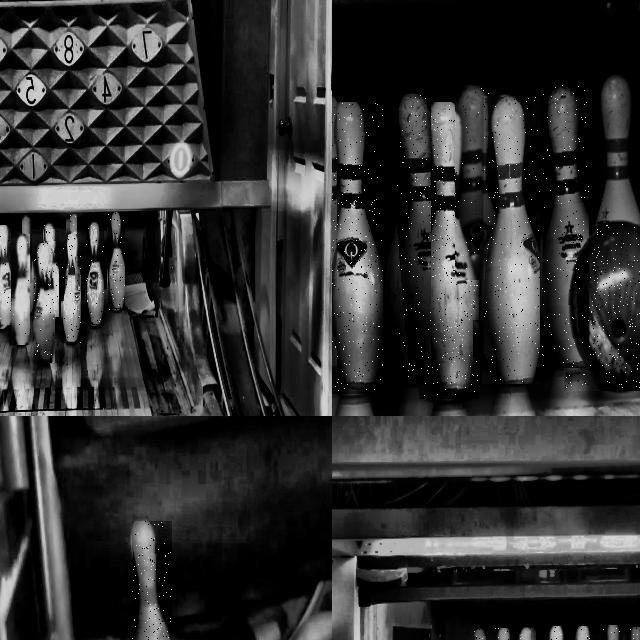bowling-ball: (564, 225, 640, 388)
bowling-pins: (419, 103, 479, 397), (484, 97, 539, 384), (332, 103, 383, 392), (542, 85, 589, 368), (397, 95, 431, 378), (595, 75, 640, 227), (457, 87, 490, 280), (132, 521, 169, 640), (34, 243, 55, 361), (62, 233, 80, 343), (86, 222, 104, 325), (13, 234, 29, 345), (108, 212, 125, 310), (44, 223, 59, 311), (0, 226, 10, 326), (22, 215, 32, 310), (476, 324, 487, 361), (69, 215, 76, 234), (75, 258, 79, 289)
